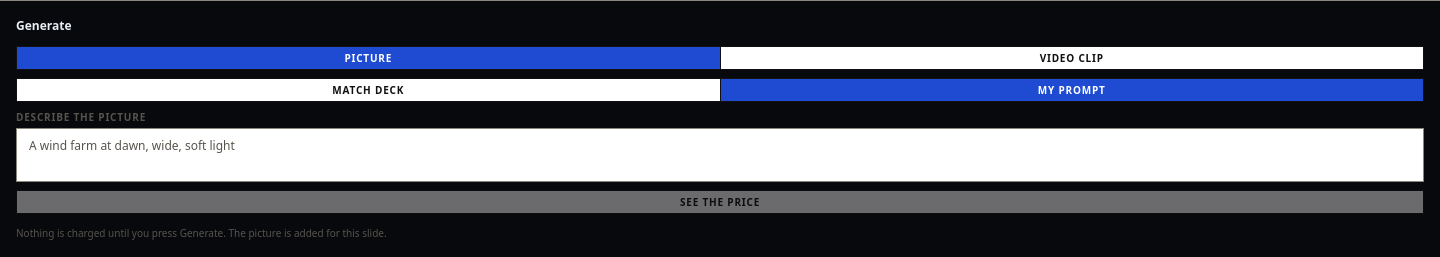
forgets a price when the description changes
Step 1. Type "One" into the text box with test id "generate-prompt" → (720, 155), box [16,128,1424,182]
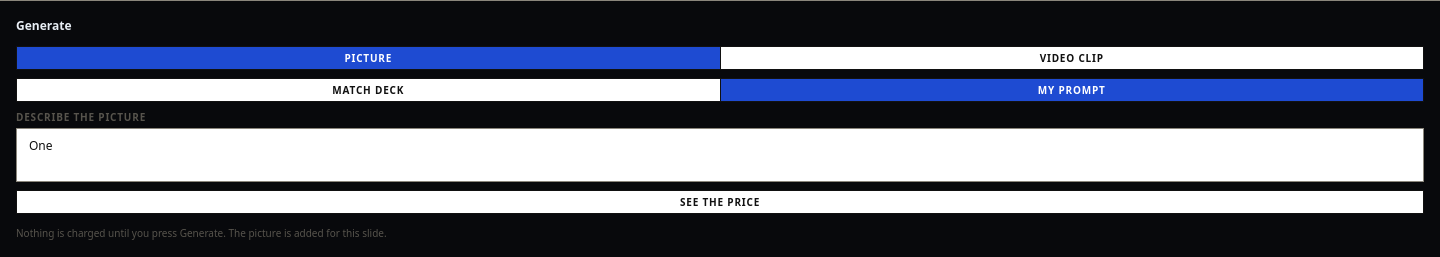
Step 2. Click the button with test id "generate-price-check" → (720, 202), box [16,190,1424,214]
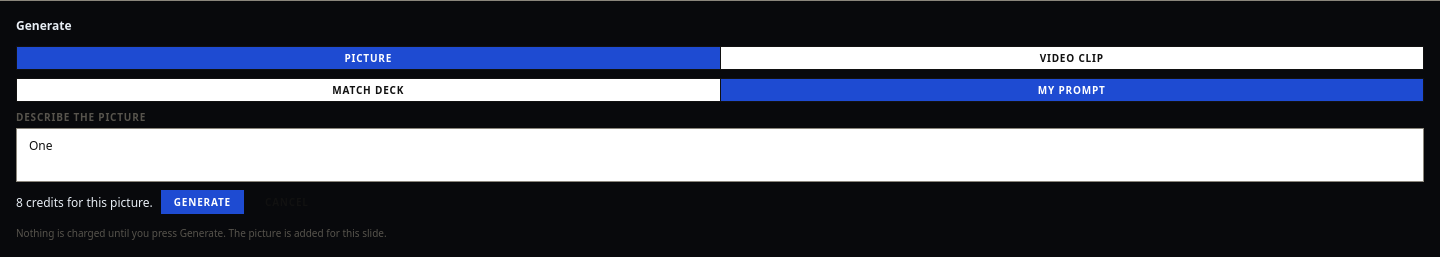
Now the text "8 credits for this picture." is shown, box [16,194,153,210]
Step 3. Replace the text in the text box with test id "generate-prompt" with "One, but at night" → (720, 155), box [16,128,1424,182]
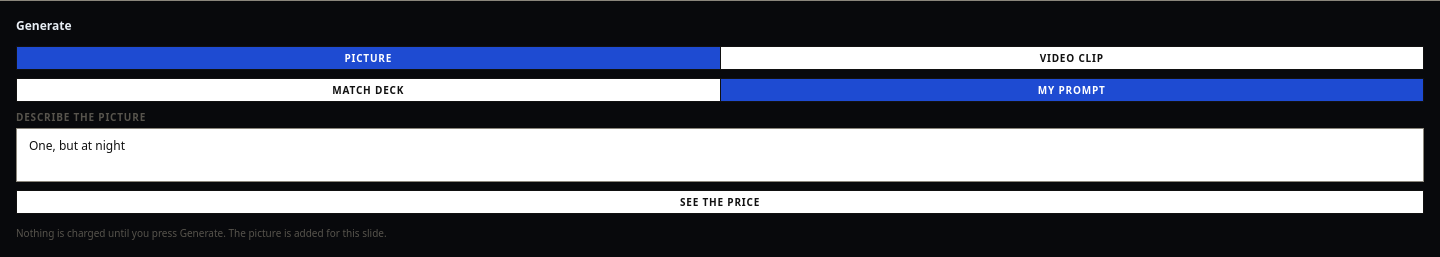
Now the text with test id "generate-price" is gone
